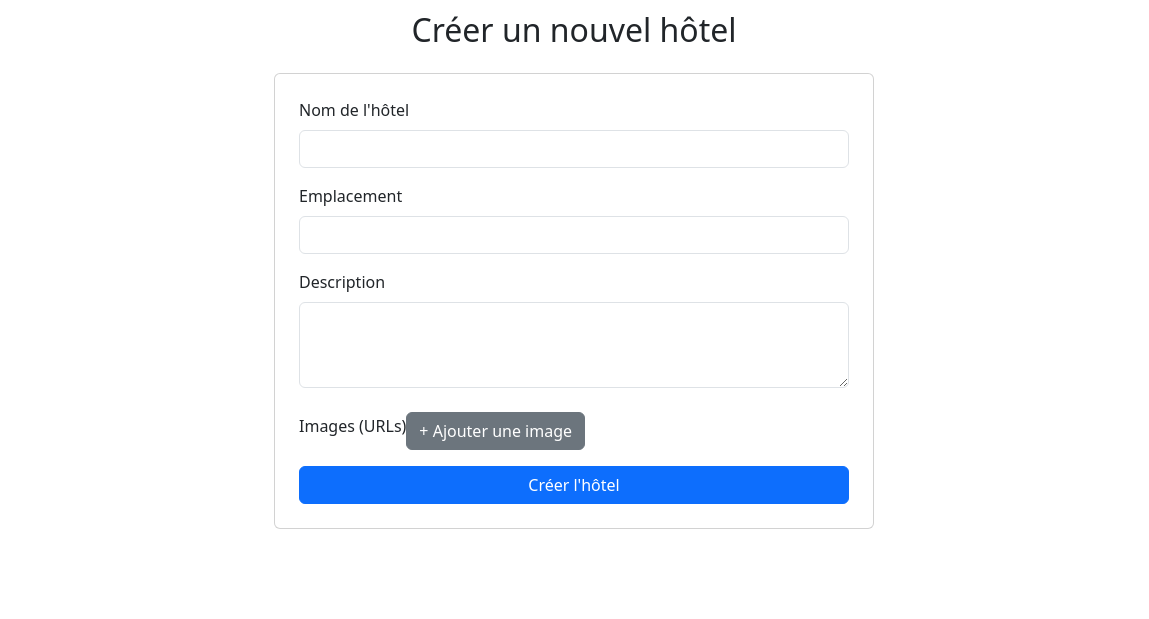
Test: CreateHotel.vue › devrait afficher un message d'erreur en cas d'échec
Type "Hôtel de Test" into the field below "Nom de l'hôtel" at (574, 149), box x1=299 y1=130 x2=849 y2=168
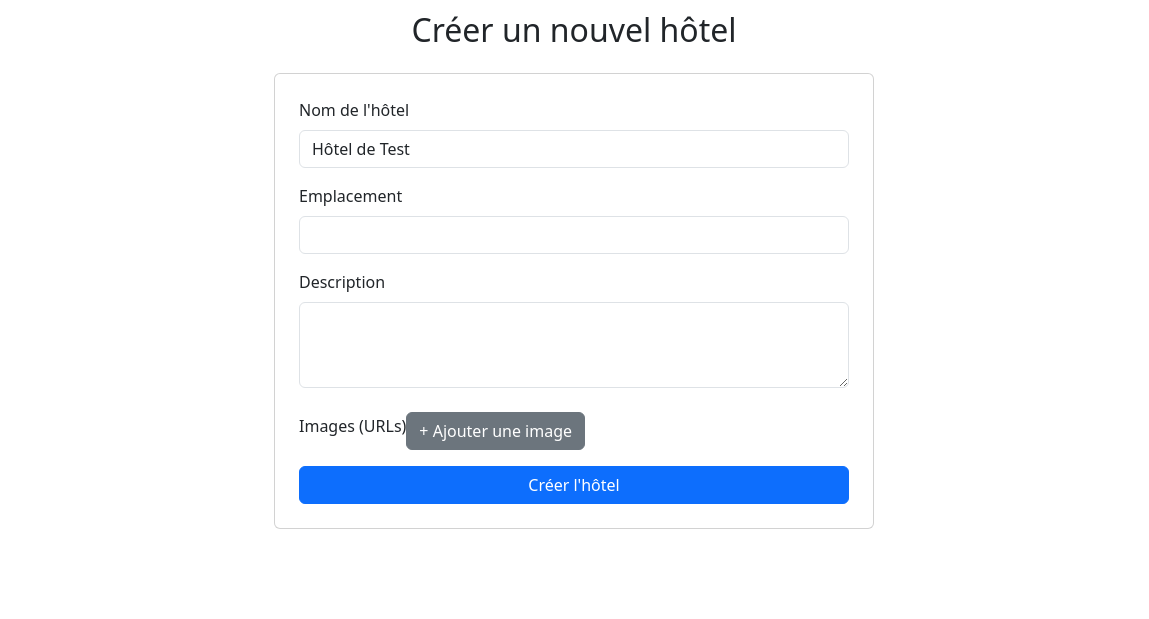
Type "Paris, France" into the field below "Emplacement" at (574, 235), box x1=299 y1=216 x2=849 y2=254
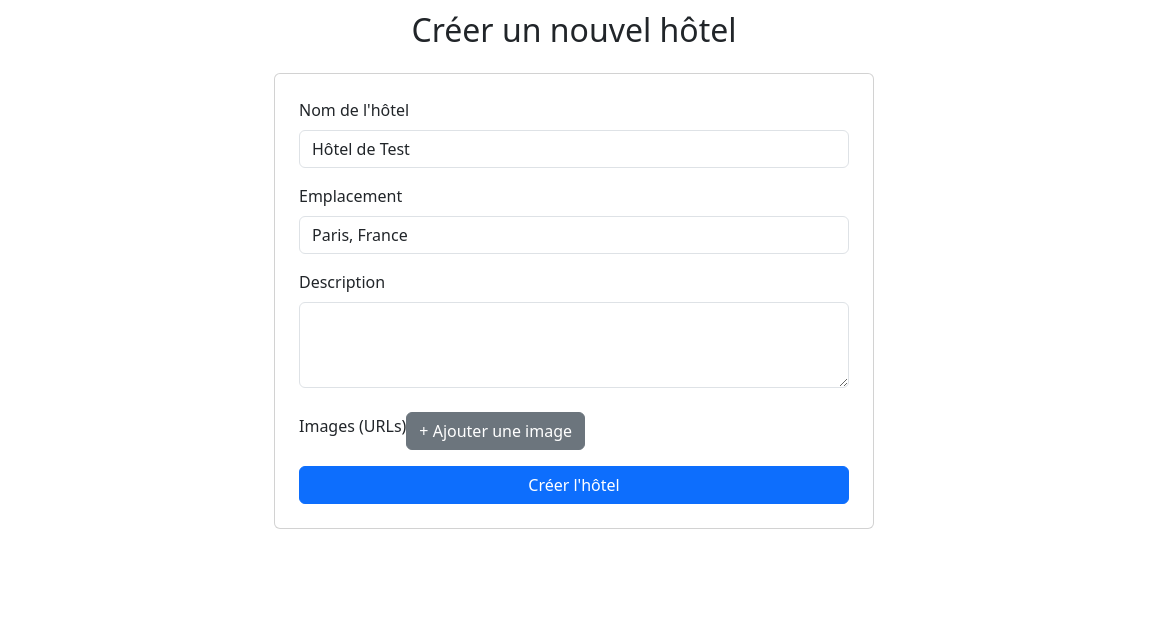
Type "Une description de test" into the text box at (574, 345), box x1=299 y1=302 x2=849 y2=388
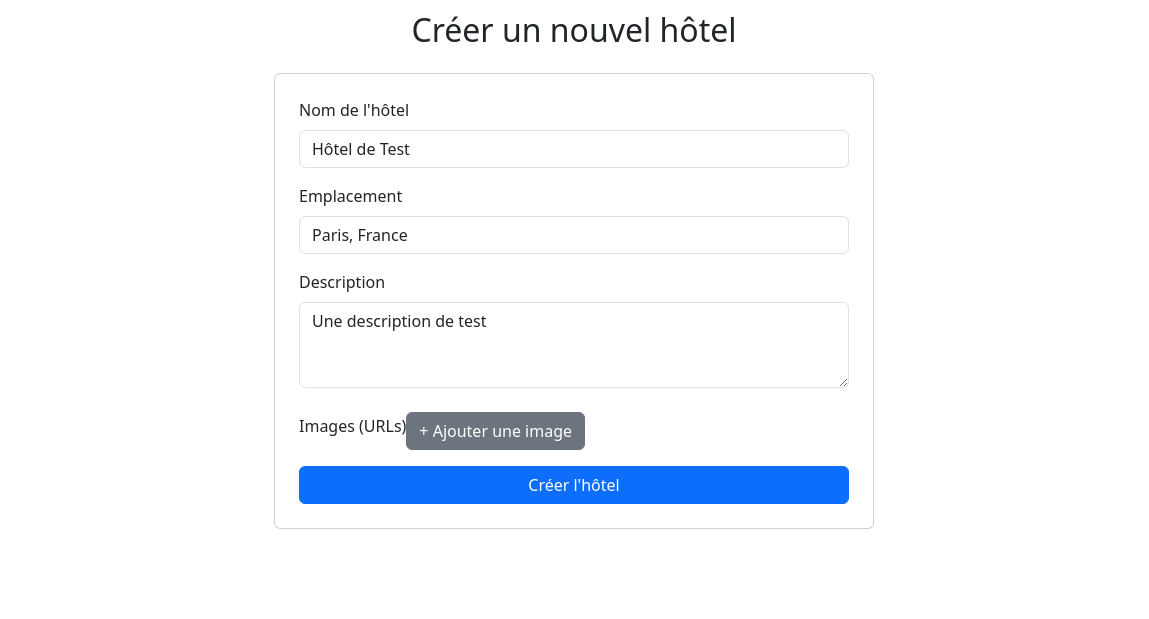
Submit the form, box x1=274 y1=73 x2=874 y2=529
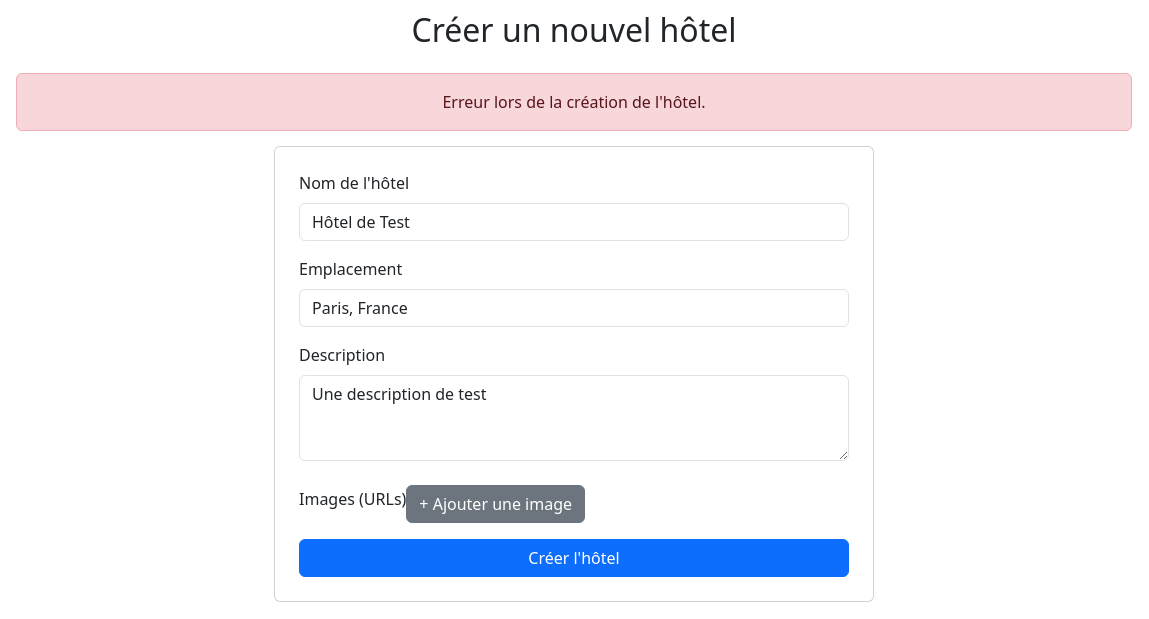
Check: the text "Erreur lors de la création de l'hôtel." is shown, box x1=16 y1=73 x2=1132 y2=131
